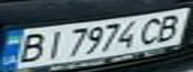4: (115, 17, 145, 50)
7: (100, 20, 124, 53), (63, 25, 87, 57)
9: (84, 22, 106, 55)
B: (9, 30, 51, 64), (151, 11, 190, 43)
C: (133, 15, 169, 46)
I: (39, 27, 69, 61)
